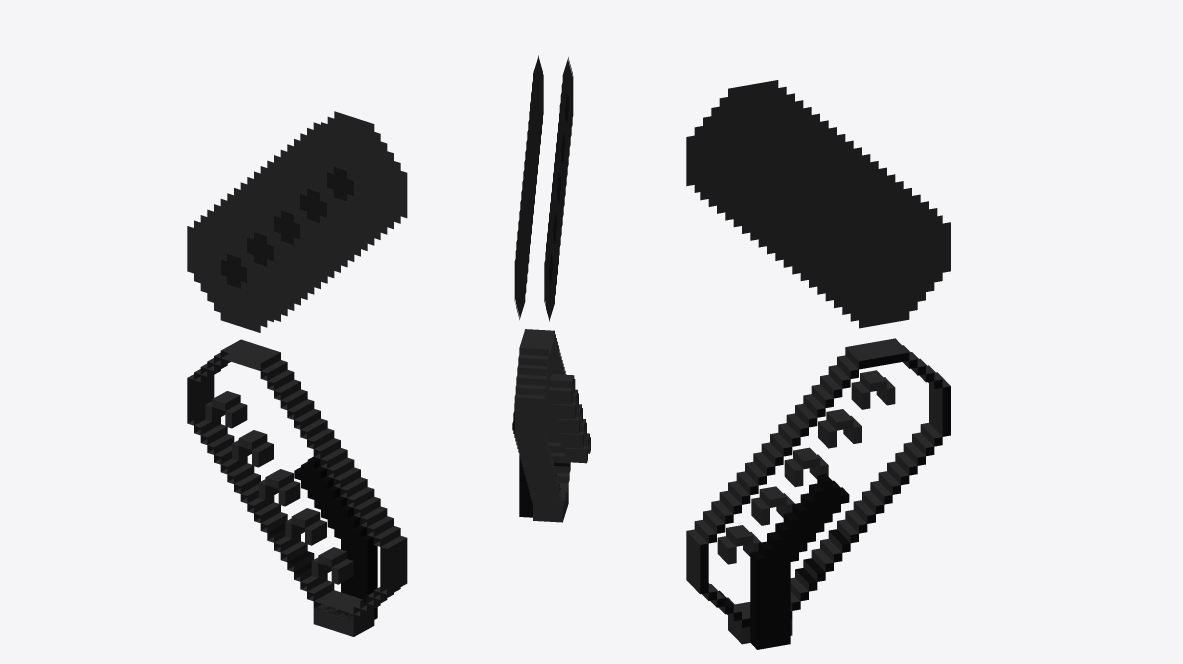
Rendered from indicator_1_67_5.obj.
3 views of the same model, side by side, from view 1: azimuth 30°, elevation 25°; view 2: azimuth 150°, elevation 25°; view 3: azimuth 270°, elevation 25° (orthographic). The views are drawn at different scales.
Size of the model in its own units: 0.8809 by 2.06 by 1.9.
